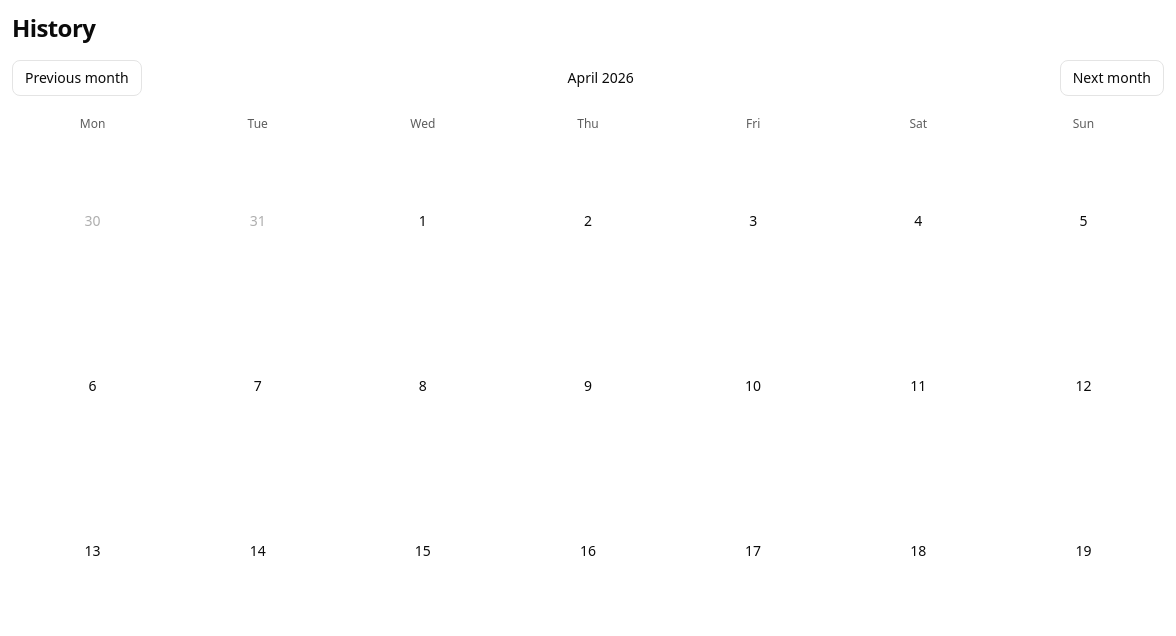
Test case: HistoryClient › switches month on next/prev button
This screenshot has width=1176, height=636.
Expected: the text "April 2026" is shown, [568,68,634,88]
Click the button "Next month" at (1112,78), box [1060,60,1164,96]
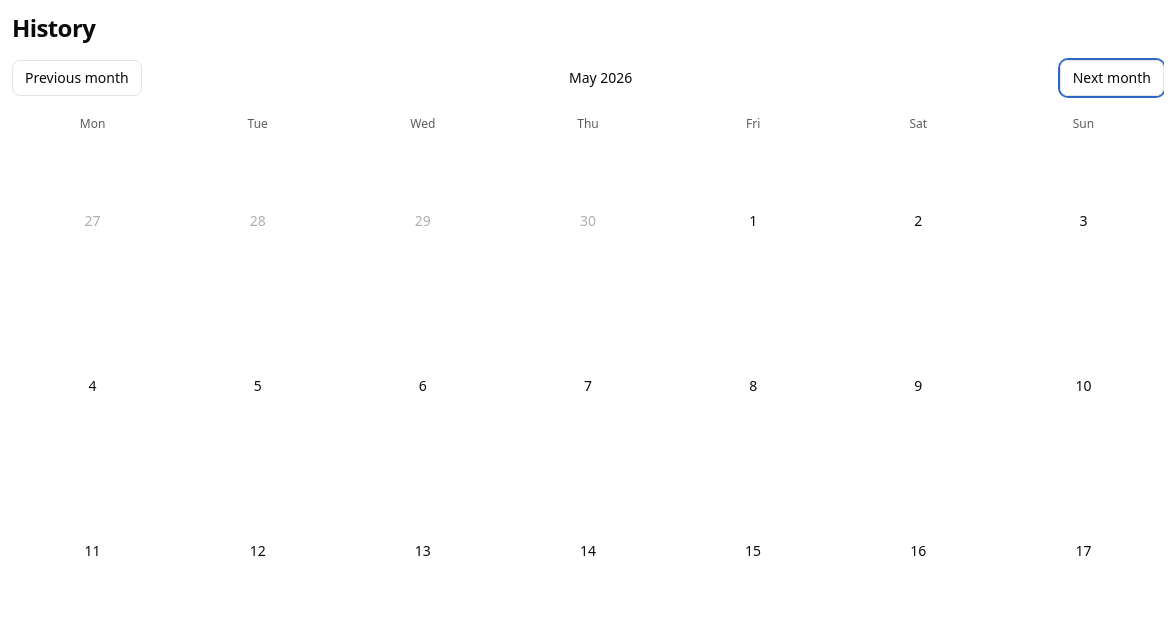
Expected: the text "May 2026" is shown, [569,68,632,88]
Click the button "Previous month" at (77,78), box [12,60,142,96]
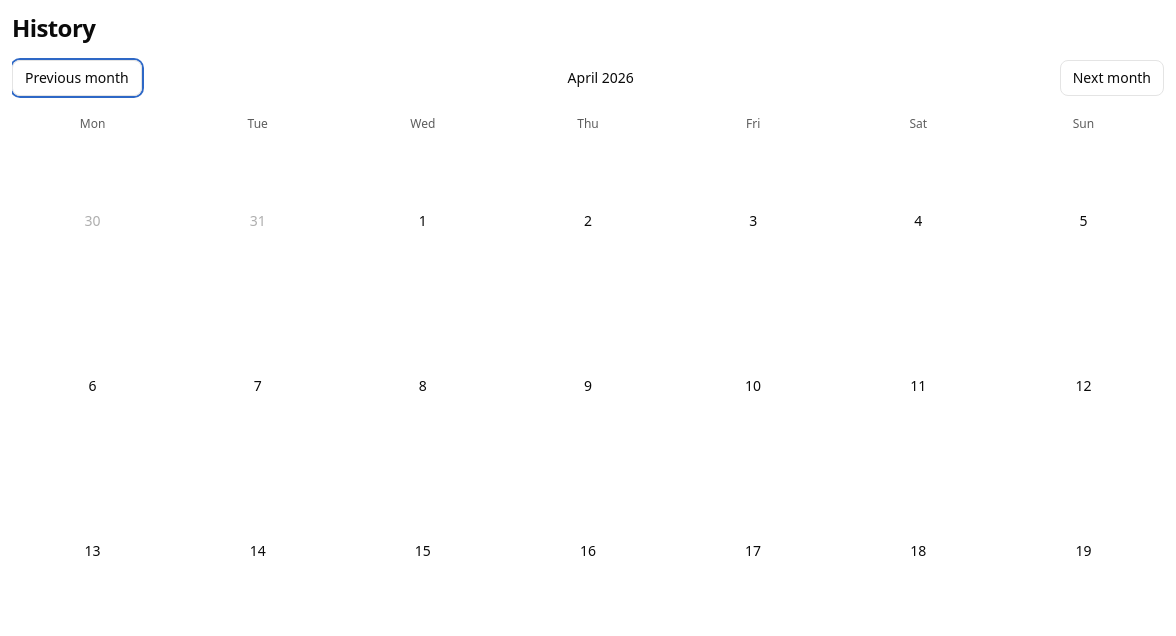
Expected: the text "April 2026" is shown, [568,68,634,88]
